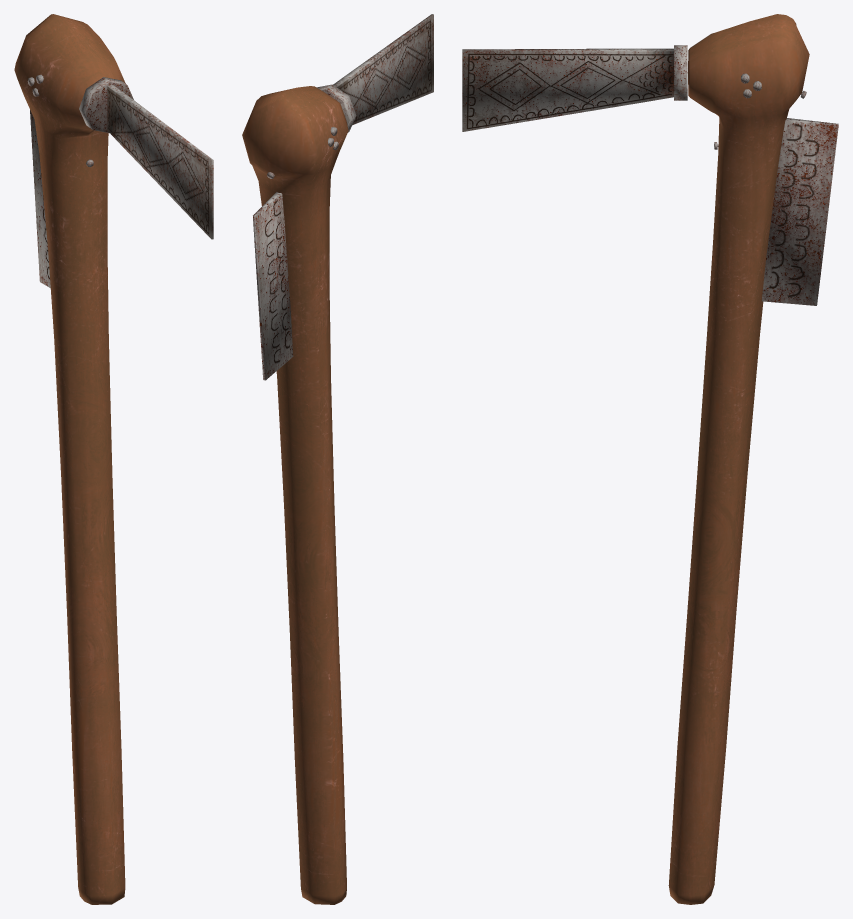
File: Bâton_dance_guèrrière 2.fbx
3 renders of one model, left to right at view 1: azimuth 30°, elevation 25°; view 2: azimuth 150°, elevation 25°; view 3: azimuth 270°, elevation 25°, orthographic. The views are drawn at different scales.
Visible parts, largest first — view 1: Bâton, fer, Fer_dos; view 2: Bâton, fer, Fer_dos; view 3: Bâton, fer, Fer_dos.
Boxes of the visible parts, x1,y1,x2,y2 form: Bâton: (14, 14, 125, 904); fer: (79, 77, 213, 239); Fer_dos: (30, 110, 50, 287); Bâton: (242, 86, 348, 904); fer: (316, 14, 433, 132); Fer_dos: (253, 192, 293, 380); Bâton: (668, 14, 809, 904); fer: (462, 45, 687, 131); Fer_dos: (762, 118, 838, 305).
Bounding box in the file's own units: 91.91 × 932 × 361.
2 materials, 2 textured.
